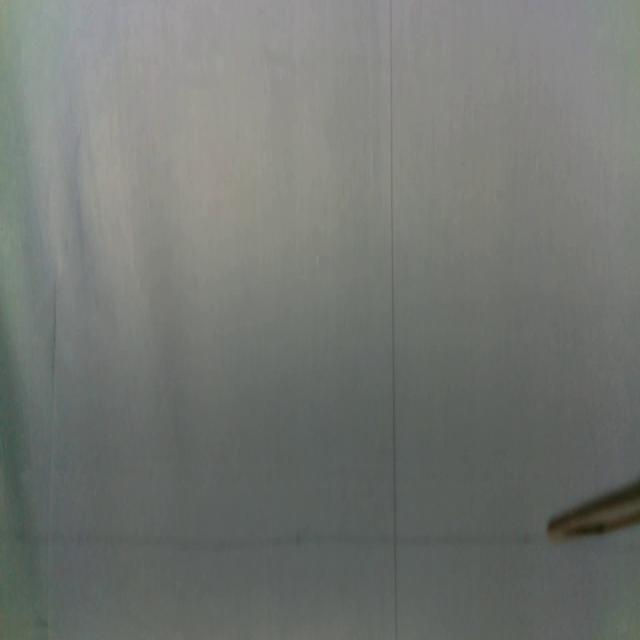color bleeding: (4, 514, 546, 560)
crease: (388, 0, 400, 640), (43, 275, 59, 639)
